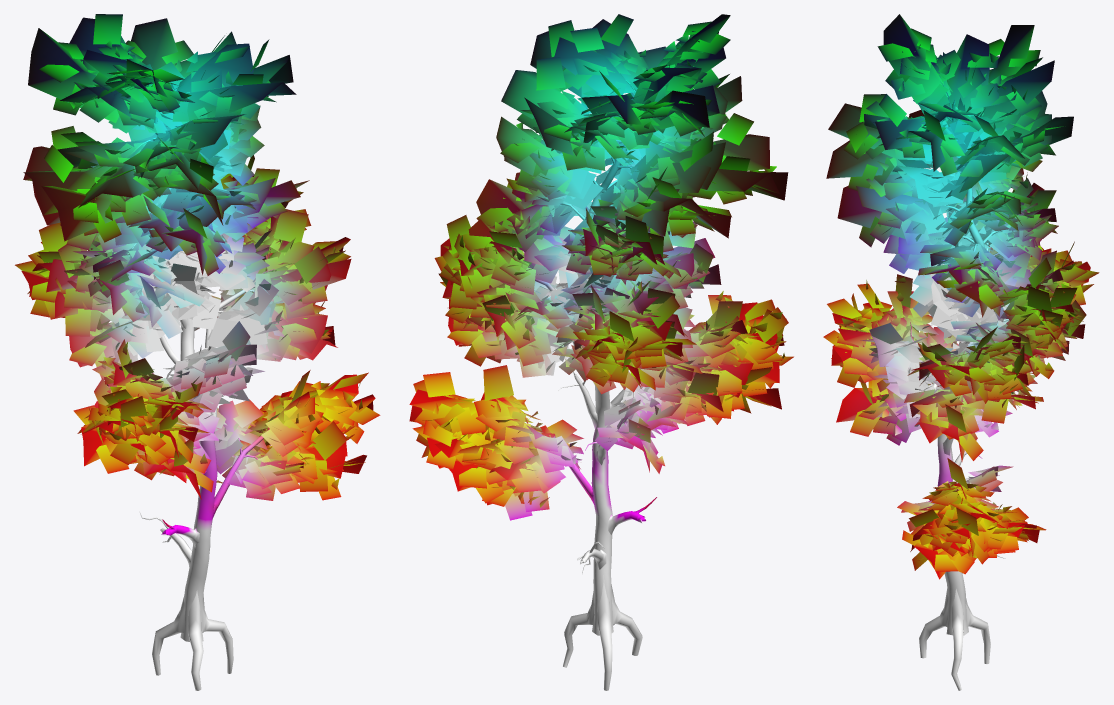
The model's file is arden_forest_hickory_02.fbx.
3 renders of one model, left to right at view 1: azimuth 30°, elevation 25°; view 2: azimuth 150°, elevation 25°; view 3: azimuth 270°, elevation 25°, orthographic. The views are drawn at different scales.
Visible parts, largest first — view 1: arden_forest_hickory_02; view 2: arden_forest_hickory_02; view 3: arden_forest_hickory_02.
Boxes of the visible parts, box(x1,y1,x2,y2) form: arden_forest_hickory_02: box(15, 14, 380, 690); arden_forest_hickory_02: box(409, 14, 793, 690); arden_forest_hickory_02: box(823, 14, 1099, 690).
Size of the model in its own units: 18.12 by 13.38 by 32.84.
